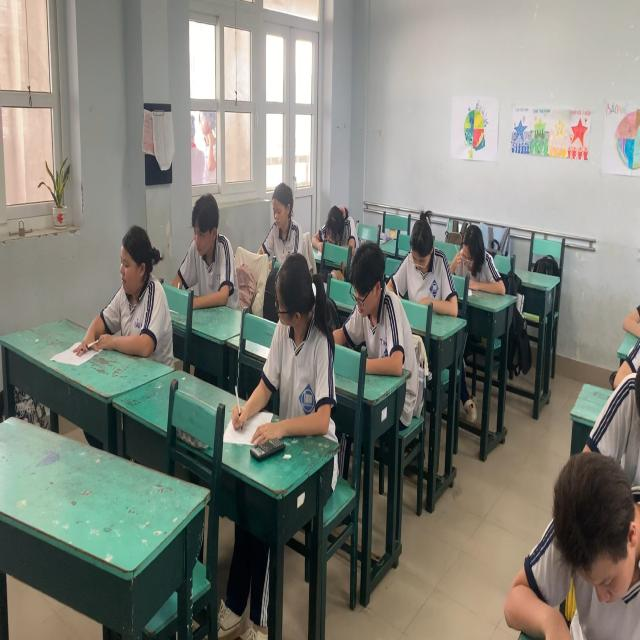cheating: (263, 250, 329, 433)
not_cheating: (540, 450, 640, 637), (86, 222, 171, 364), (172, 183, 236, 313), (345, 236, 403, 370), (397, 215, 454, 326), (457, 206, 506, 302), (256, 174, 308, 251), (318, 194, 355, 258)
